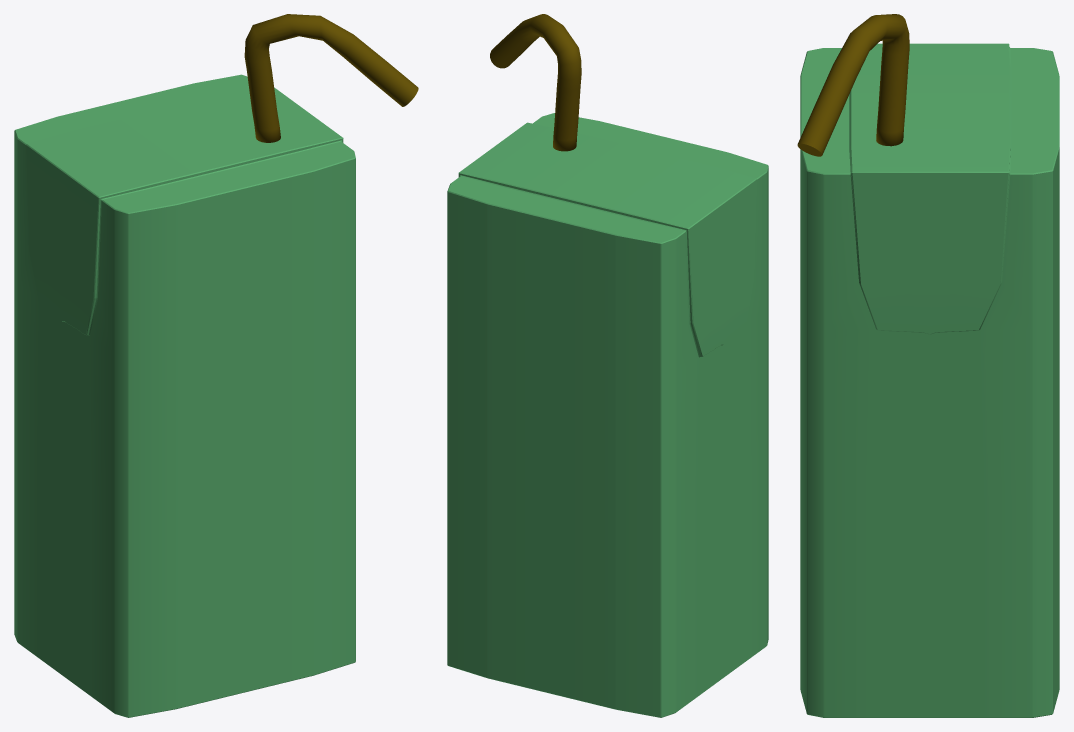
Rendered from ART-MOD-A-JUICEBOX-002.FBX.
The picture shows the model from 3 angles, left to right: view 1: azimuth 30°, elevation 25°; view 2: azimuth 150°, elevation 25°; view 3: azimuth 270°, elevation 25°; orthographic projection. The views are drawn at different scales.
Visible parts, largest first — view 1: Cylinder001; view 2: Cylinder001; view 3: Cylinder001.
Boxes of the visible parts, x1,y1,x2,y2 form: Cylinder001: (14, 14, 418, 717); Cylinder001: (447, 14, 768, 717); Cylinder001: (797, 14, 1059, 717).
Bounding box in the file's own units: 3.61 × 7.24 × 2.52.
